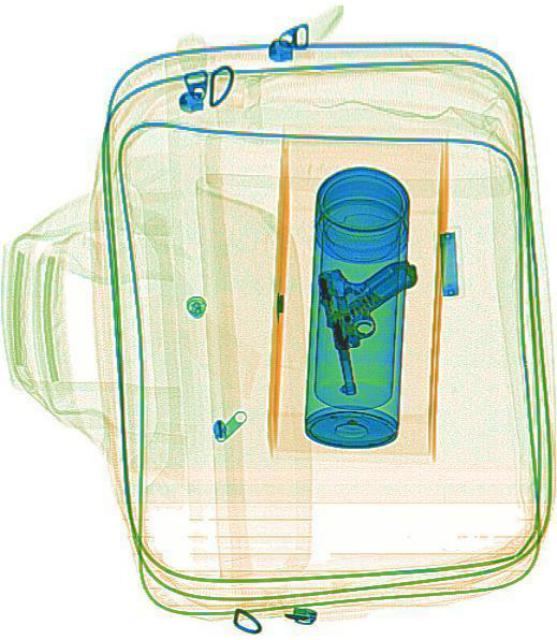Gun: (312, 255, 432, 397)
